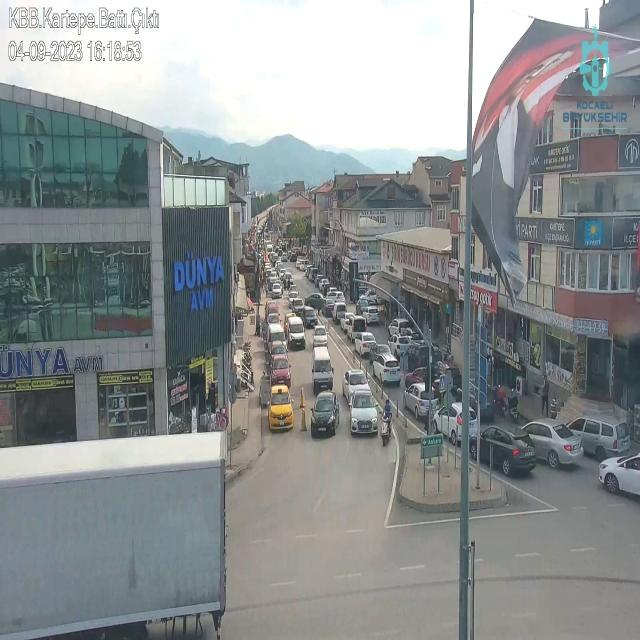Car: (469, 425, 536, 476), (518, 421, 584, 468), (562, 414, 629, 454), (597, 449, 640, 502), (432, 402, 479, 445), (347, 390, 379, 436), (309, 391, 341, 437), (403, 382, 439, 419), (267, 387, 295, 432), (341, 368, 371, 406), (370, 352, 402, 385), (404, 366, 440, 390), (269, 356, 292, 388), (388, 334, 416, 359), (352, 331, 378, 356), (268, 342, 290, 365), (388, 318, 412, 338), (360, 305, 381, 326), (339, 312, 357, 334), (305, 292, 326, 310), (332, 302, 349, 324), (301, 306, 318, 328), (312, 324, 329, 345), (289, 297, 305, 315), (266, 312, 281, 329), (269, 285, 283, 299), (318, 278, 330, 293)
Cycle: (376, 398, 397, 443)
Truck: (0, 429, 243, 640)
Van: (312, 347, 334, 391), (286, 316, 306, 346)
